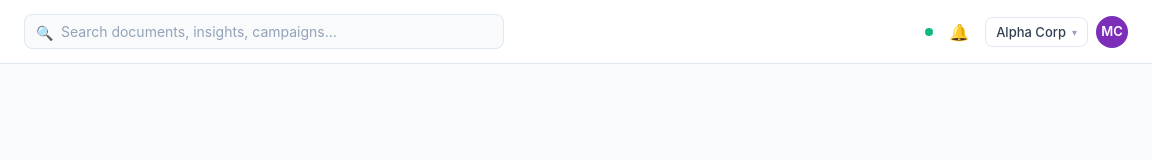
Scenario: Header — search results dropdown › shows no-results message for unmatched query
In the search field: (264,32) top-left (24, 14), bottom-right (504, 49), type "zzz-no-match-xyz"
Wait 500 ms
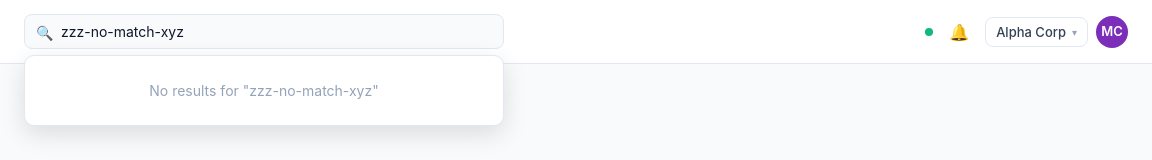
Check: the message "No results for \"zzz-no-match-xyz\"" is shown, box top-left (24, 55), bottom-right (504, 126)
